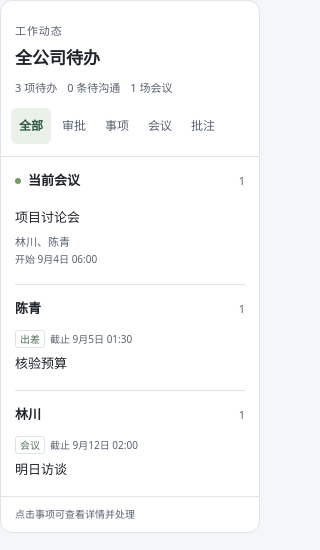
office activity rail › keeps scheduled meetings as todos but shows active meetings only once
Click the button "会议".
click(160, 126)  # box top-left (140, 108), bottom-right (180, 144)
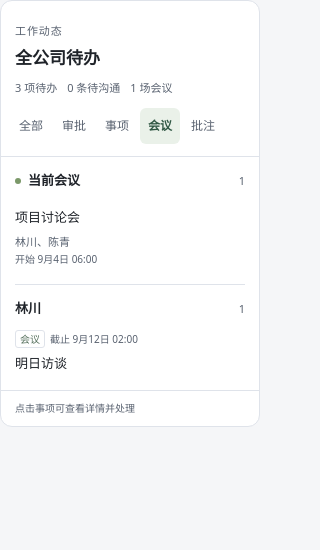
Expected: the number of links "项目讨论会" is 1, top-left (15, 208), bottom-right (80, 226)
Expected: the link "明日访谈" is shown, top-left (15, 354), bottom-right (67, 372)
Click the button "事项".
click(117, 126)  # box top-left (97, 108), bottom-right (137, 144)
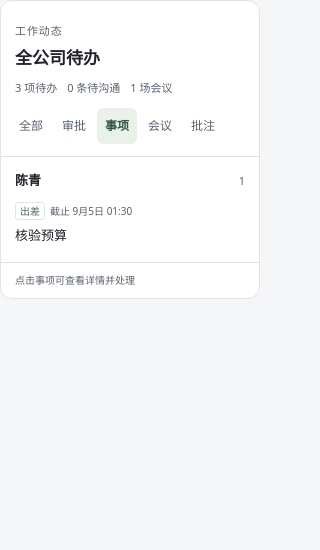
Expected: the text "出差" is shown, top-left (15, 202), bottom-right (45, 220)
Expected: the link "明日访谈" is gone
